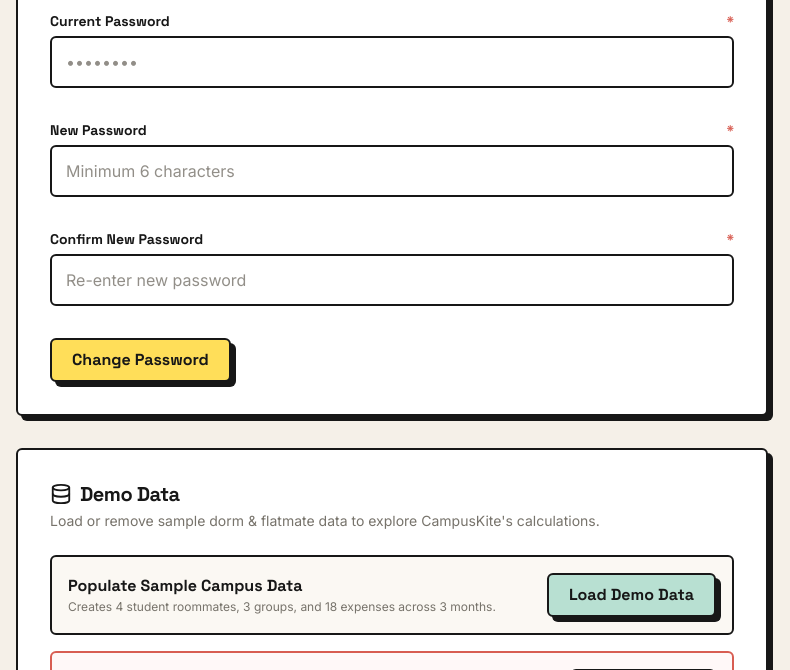
Test: Settings Page › Section 2: validates password fields and calls changePassword on valid input
Later steps or results of the test are not shown.
(page scrolled)
Expected: the password field labelled "Current Password *" is shown, [50, 36, 734, 88]
# Test empty fields validation
Click the button "Change Password" at (140, 360), box [50, 338, 231, 382]
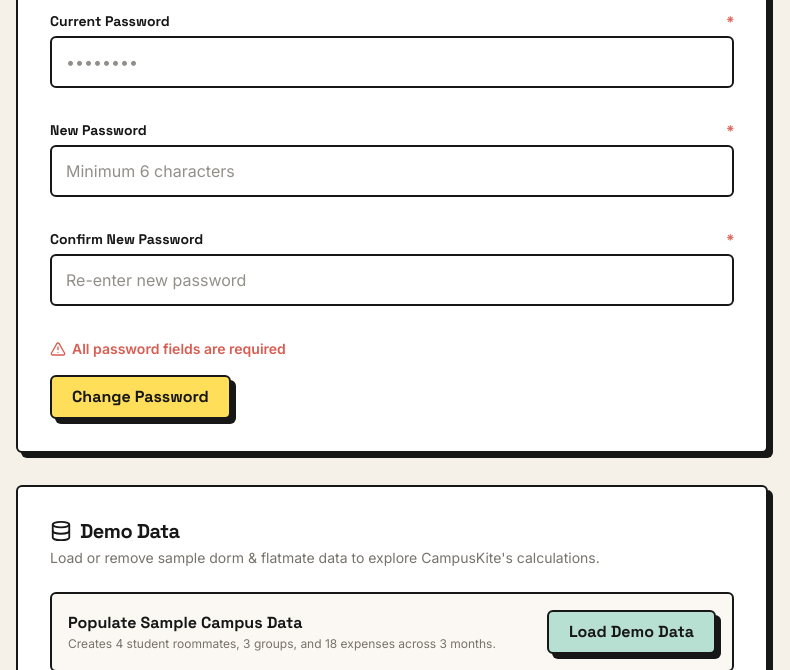
Expected: the text "All password fields are required" is shown, [72, 338, 286, 359]
# Test short password
Type "demo123" into the password field labelled "Current Password *" at (392, 62), box [50, 36, 734, 88]
Type "123" into the password field labelled "New Password *" at (392, 171), box [50, 145, 734, 197]
Type "123" into the password field labelled "Confirm New Password *" at (392, 280), box [50, 254, 734, 306]
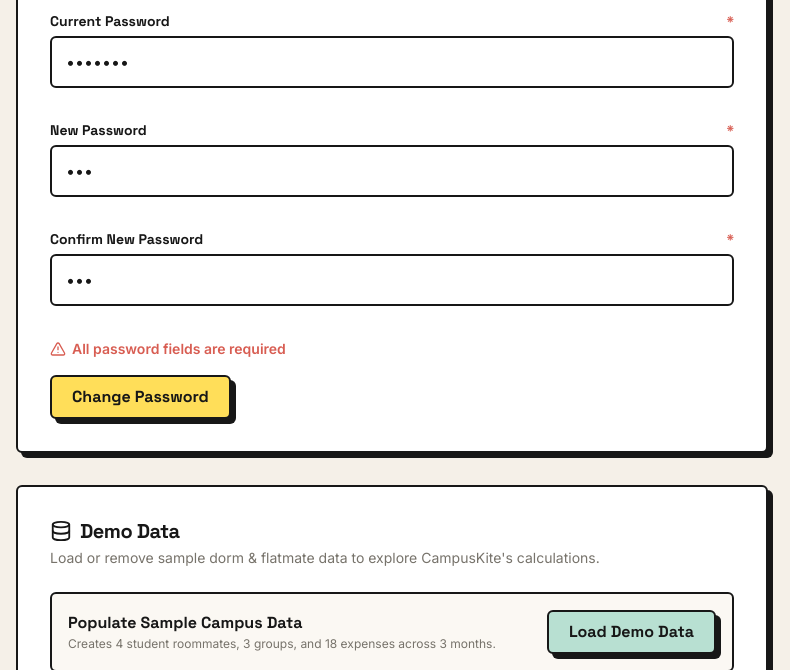
Click the button "Change Password" at (140, 397), box [50, 375, 231, 419]
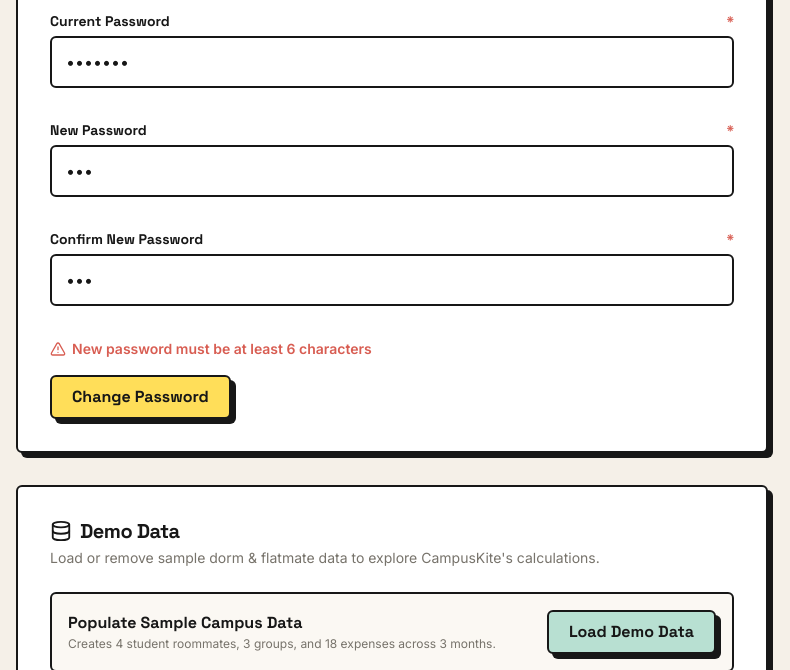
Expected: the text "New password must be at least 6 characters" is shown, [72, 338, 372, 359]
# Test mismatch password
Type "secret123" into the password field labelled "New Password *" at (392, 171), box [50, 145, 734, 197]
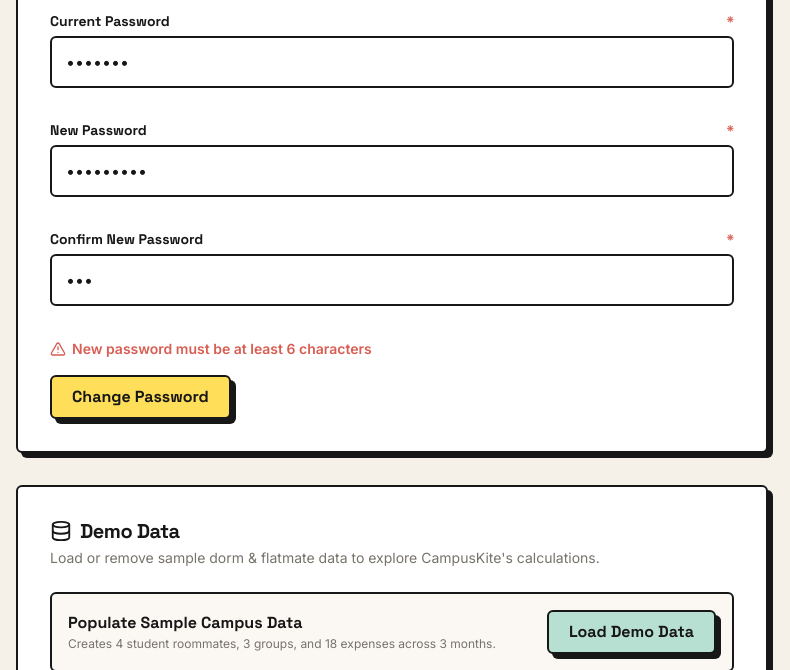
Type "secret456" into the password field labelled "Confirm New Password *" at (392, 280), box [50, 254, 734, 306]
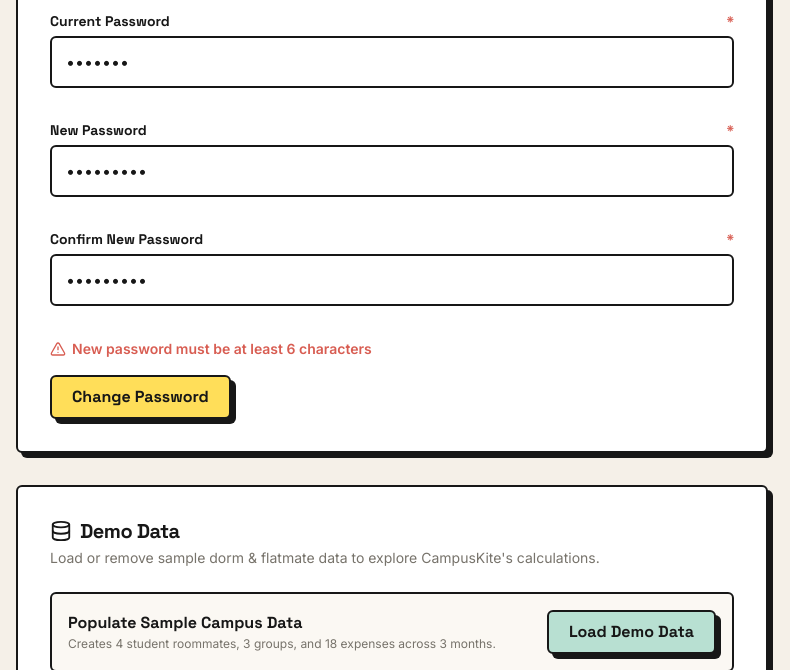
Click the button "Change Password" at (140, 397), box [50, 375, 231, 419]
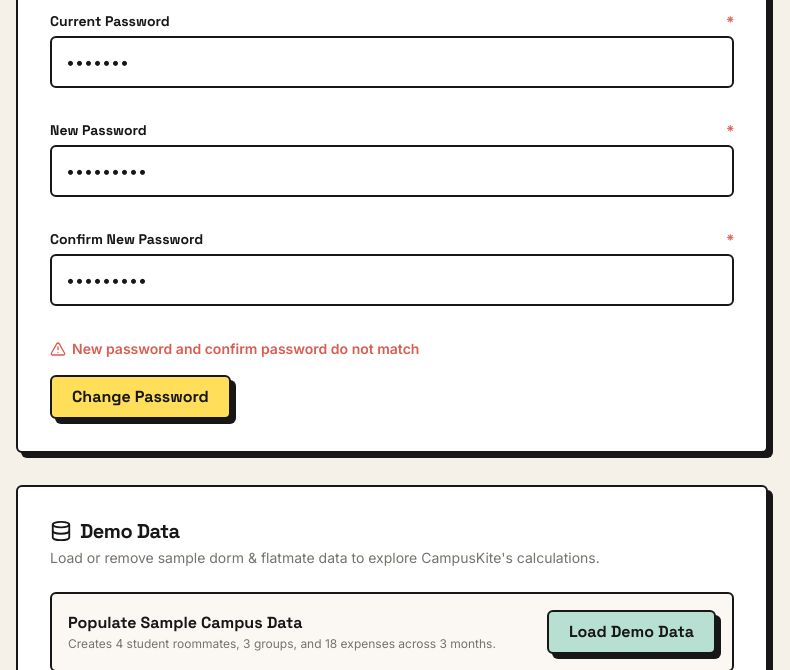
Expected: the text "New password and confirm password do not match" is shown, [72, 338, 419, 359]
